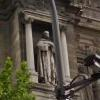Statue: (33, 23, 63, 83)
